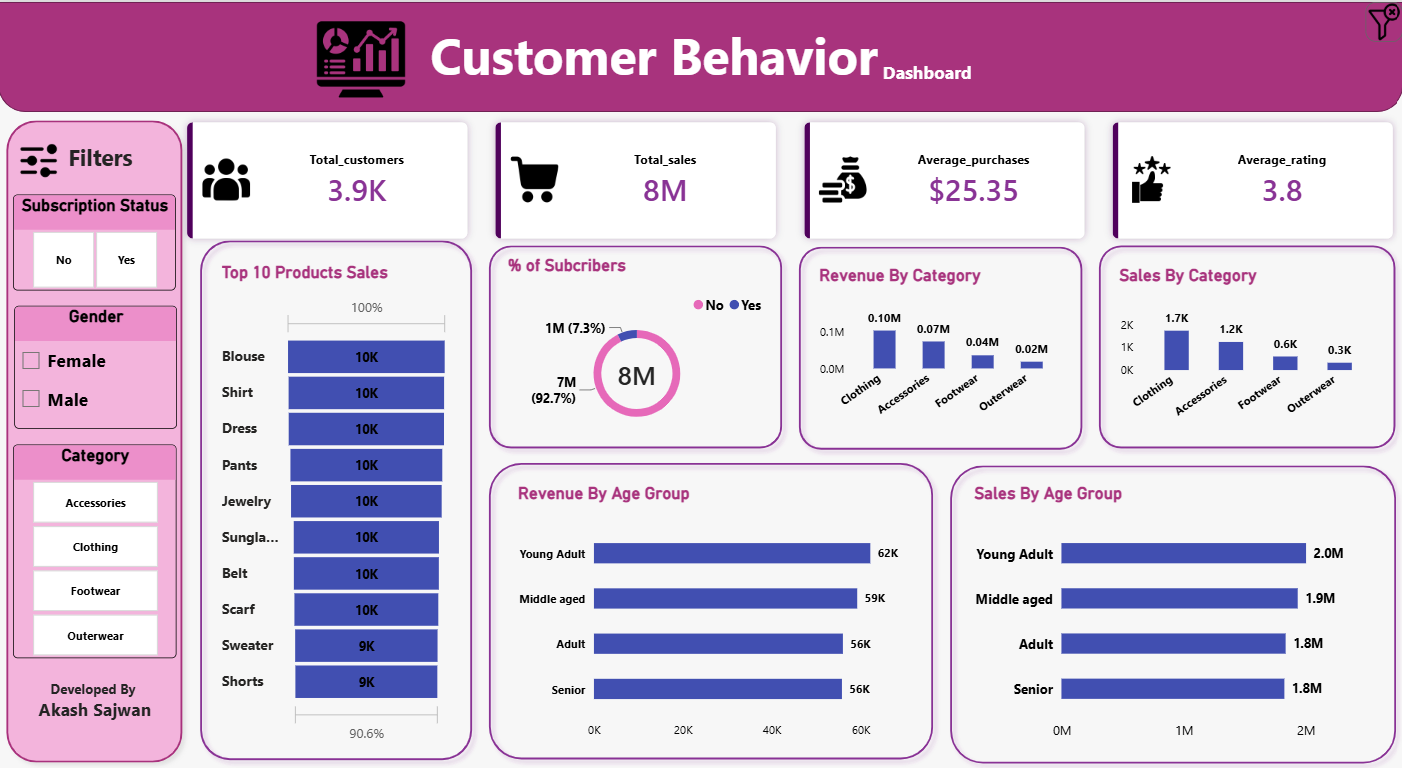

Layout of this report page (visuals, bound fields, positions):
{"tool":"powerbi","page":{"name":"Dashboard","canvas":[1500,820],"ordinal":0},"visuals":[{"type":"shape","box":[0,0,1500,117.4],"z":0},{"type":"cardVisual","fields":{"Data":["customer.Total_customers","Sum(customer.customer_id)","customer.Average_purchases","customer.Average_rating"]},"box":[190.2,117.1,1309.8,146.3],"z":1000},{"type":"shape","box":[514.6,250.3,330.8,234.5],"z":2000},{"type":"textbox","box":[0,20.5,1500,89.3],"z":3000},{"type":"shape","box":[845.4,252,320.3,234.5],"z":4000},{"type":"shape","box":[1165.7,250.3,334.3,234.5],"z":5000},{"type":"shape","box":[0,117.4,205.8,702.9],"z":6000},{"type":"donutChart","title":" % of Subcribers ","fields":{"Category":["customer.subscription_status"],"Y":["Sum(customer.customer_id)"]},"box":[527.4,256.6,307,215.7],"z":7000},{"type":"shape","box":[514.6,483.1,491.8,334.3],"z":8000},{"type":"clusteredColumnChart","title":"Revenue By Category","fields":{"Category":["customer.category"],"Y":["Sum(customer.purchase_amount)"]},"box":[859.4,266,294,204.8],"z":9000},{"type":"clusteredColumnChart","title":"Sales By Category","fields":{"Category":["customer.category"],"Y":["customer.Total_customers"]},"box":[1179.7,266,306.3,206.5],"z":10000},{"type":"slicer","title":"Subscription Status","fields":{"Values":["customer.subscription_status"]},"box":[16.4,204.8,173.4,102.4],"z":11000},{"type":"slicer","title":"Gender","fields":{"Values":["customer.gender"]},"box":[17.7,323.5,173.4,131.1],"z":12000},{"type":"slicer","title":"Category","fields":{"Values":["customer.category"]},"box":[16.4,472.3,174.1,228.3],"z":13000},{"type":"shape","box":[1006.4,484.8,493.6,336.1],"z":14000},{"type":"clusteredBarChart","title":"Revenue By Age Group","fields":{"Category":["customer.age_group"],"Y":["Sum(customer.purchase_amount)"]},"box":[539.1,498.8,455.1,306.3],"z":15000},{"type":"shape","box":[206.5,245,308.1,572.3],"z":16000},{"type":"clusteredBarChart","title":"Sales By Age Group","fields":{"Category":["customer.age_group"],"Y":["Sum(customer.customer_id)"]},"box":[1025.7,498.8,460.3,308.1],"z":17000},{"type":"textbox","box":[27.5,149.3,162.3,42],"z":18000},{"type":"image","box":[13.2,147.8,60,42.4],"z":19000},{"type":"image","box":[1459,0,41,42.4],"z":20000},{"type":"image","box":[311.7,11.7,150.7,98],"z":21000},{"type":"funnel","title":"Top 10 Products Sales","fields":{"Category":["customer.item_purchased"],"Y":["Sum(customer.purchase_amount)"]},"box":[222.3,262.5,274.8,542.6],"z":22000},{"type":"textbox","box":[13.7,722.2,180.2,71],"z":23000}]}

Visuals, with their boxes in screenshot pixels (x1, y1, x2, y2), scaled from the page's 1500x820 canvas onto the 1402x768 screenshot:
shape: <box>0,0,1401,110</box>
cardVisual - customer.Total_customers x Sum(customer.customer_id): <box>178,110,1401,247</box>
shape: <box>481,234,790,454</box>
textbox: <box>0,19,1401,103</box>
shape: <box>790,236,1090,456</box>
shape: <box>1090,234,1401,454</box>
shape: <box>0,110,192,767</box>
" % of Subcribers " donutChart: <box>493,240,780,442</box>
shape: <box>481,452,941,766</box>
"Revenue By Category" clusteredColumnChart: <box>803,249,1078,441</box>
"Sales By Category" clusteredColumnChart: <box>1103,249,1389,443</box>
"Subscription Status" slicer: <box>15,192,177,288</box>
"Gender" slicer: <box>17,303,179,426</box>
"Category" slicer: <box>15,442,178,656</box>
shape: <box>941,454,1401,767</box>
"Revenue By Age Group" clusteredBarChart: <box>504,467,929,754</box>
shape: <box>193,229,481,765</box>
"Sales By Age Group" clusteredBarChart: <box>959,467,1389,756</box>
textbox: <box>26,140,177,179</box>
image: <box>12,138,68,178</box>
image: <box>1364,0,1401,40</box>
image: <box>291,11,432,103</box>
"Top 10 Products Sales" funnel: <box>208,246,465,754</box>
textbox: <box>13,676,181,743</box>
